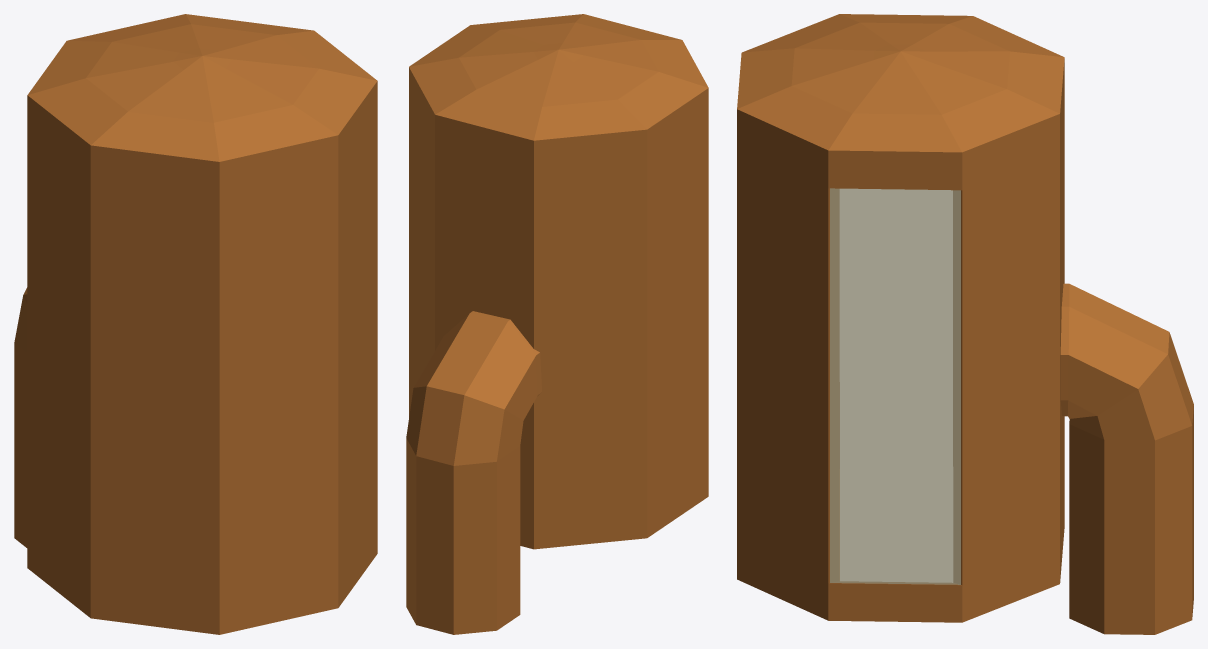
File: VAT100.glb
3 views of the same model, side by side, from view 1: azimuth 30°, elevation 25°; view 2: azimuth 150°, elevation 25°; view 3: azimuth 270°, elevation 25° (orthographic). The views are drawn at different scales.
Visible parts, largest first — view 1: Cylinder, Cylinder.001; view 2: Cylinder, Cylinder.001; view 3: Cylinder, glass, liquidHeight, Cylinder.001.
Boxes of the visible parts, x1=… form: Cylinder: x1=27, y1=14, x2=377, y2=634; Cylinder.001: x1=14, y1=287, x2=27, y2=547; Cylinder: x1=409, y1=14, x2=708, y2=549; Cylinder.001: x1=406, y1=311, x2=541, y2=634; Cylinder: x1=737, y1=14, x2=1064, y2=622; glass: x1=830, y1=188, x2=960, y2=584; liquidHeight: x1=840, y1=189, x2=952, y2=582; Cylinder.001: x1=1060, y1=283, x2=1193, y2=634.
Size of the model in its own units: 1.82 by 3.44 by 2.54.
